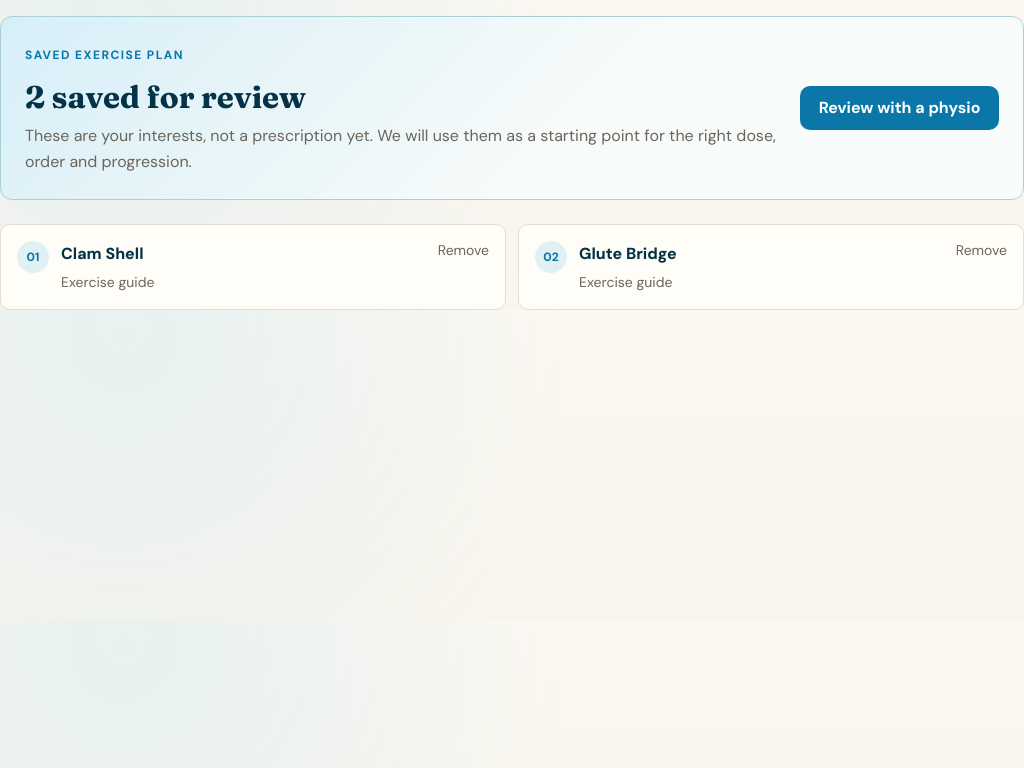
Test case: SavedPlanList › removes an item when its Remove button is clicked
The image size is (1024, 768).
Expected: the link "Clam Shell" is shown, [61,243,144,264]
Click the button "Remove" in the row of "01": (463, 250) [438,241,489,259]
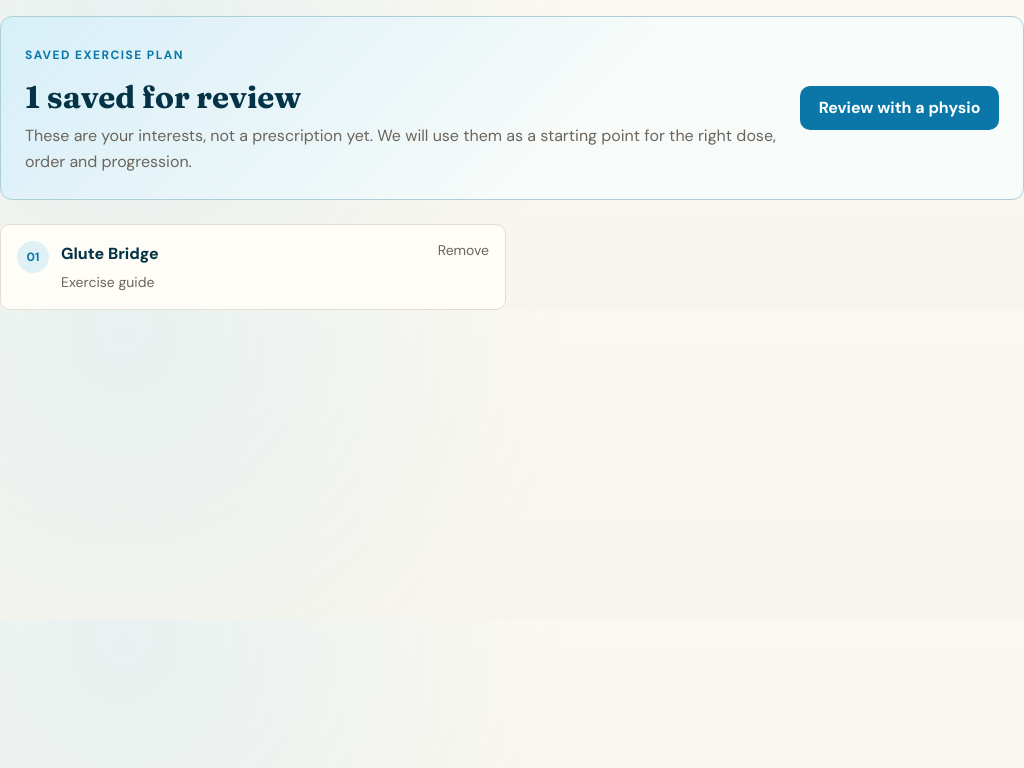
Expected: the link "Glute Bridge" is shown, [61,243,159,264]
Now the link "Clam Shell" is gone
